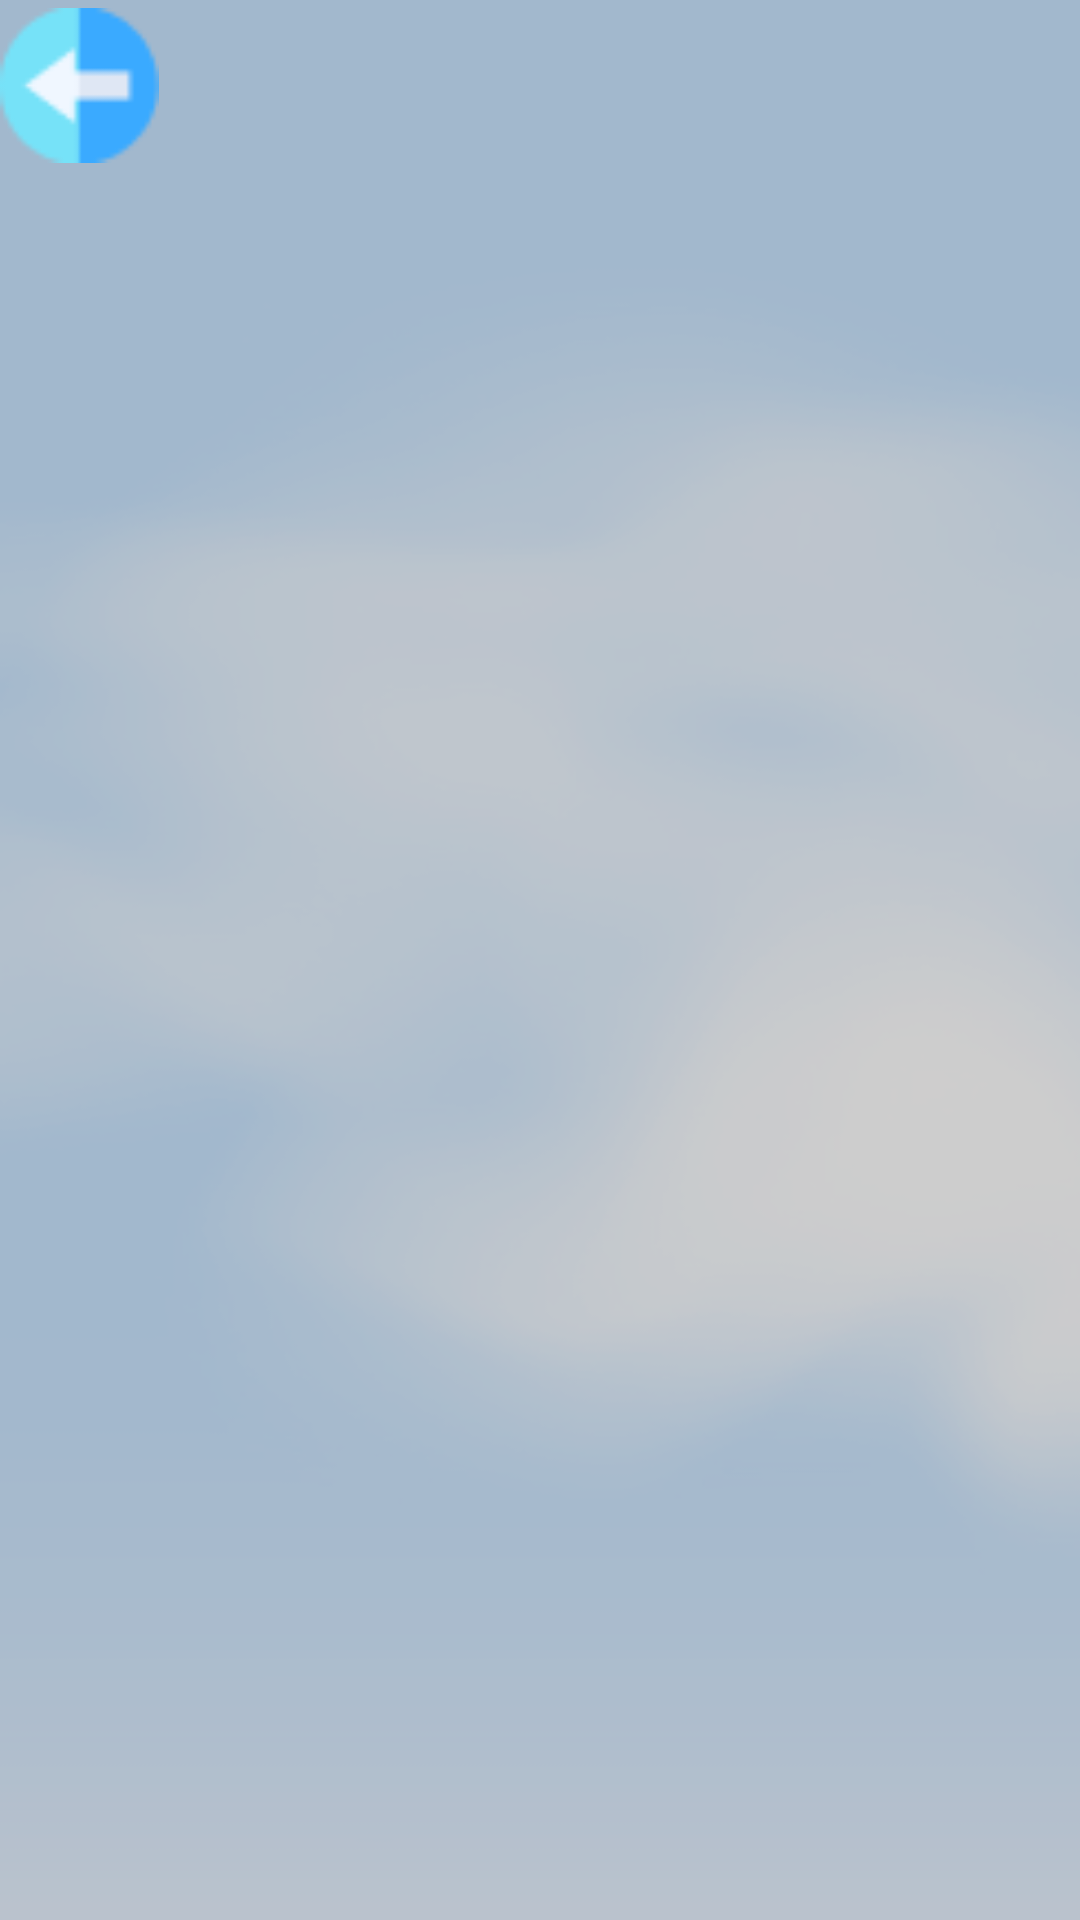

Where icons sit on this 1080px×1920px app screen, as [x1=x1, y1=y1, x2=x2, y2=y2]:
backar: [x1=0, y1=8, x2=159, y2=163]
